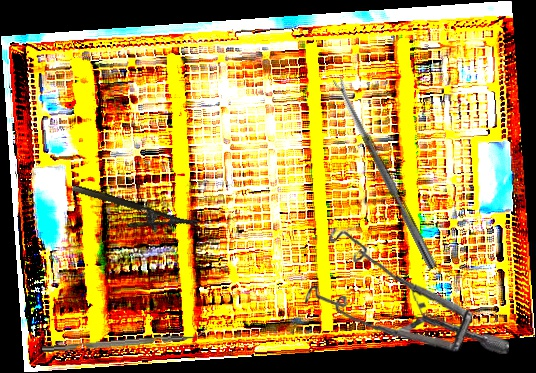Chopper: (41, 326, 209, 353)
Needle Holder: (66, 182, 200, 247)
Speculum: (301, 218, 510, 365)
Surgical Spoon: (332, 75, 439, 271)
